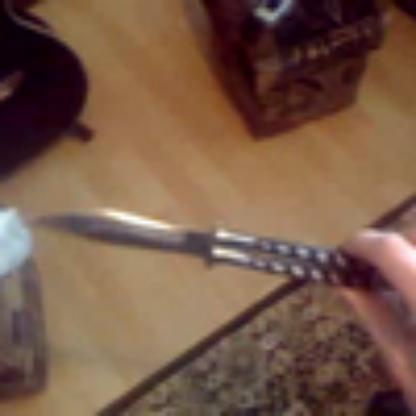knives: (12, 179, 386, 353)
